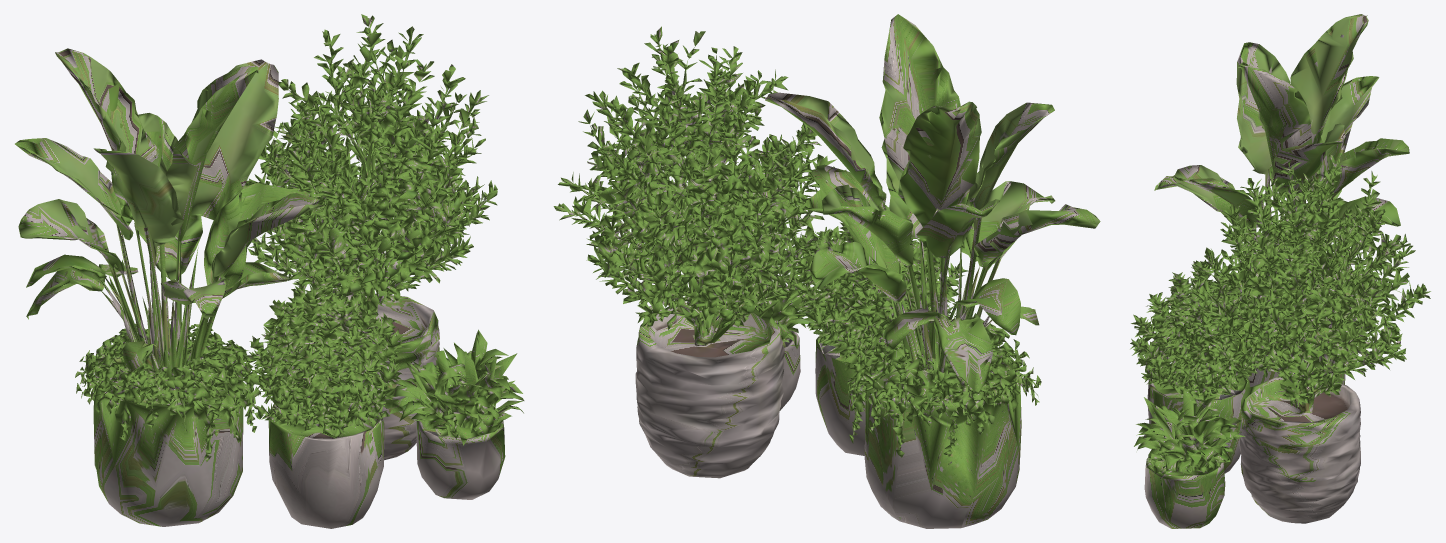
File: pots.glb
The picture shows the model from 3 angles, left to right: view 1: azimuth 30°, elevation 25°; view 2: azimuth 150°, elevation 25°; view 3: azimuth 270°, elevation 25°; orthographic projection. The views are drawn at different scales.
Size of the model in its own units: 1.9 by 1.61 by 1.15.
Materials: 1 (1 with a texture image).
